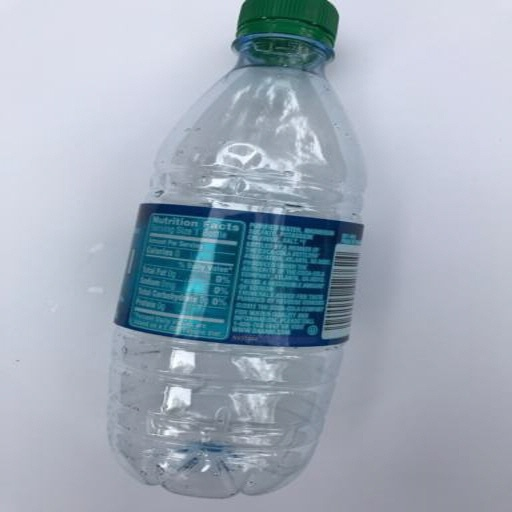Plastic_0: (110, 1, 364, 491)
